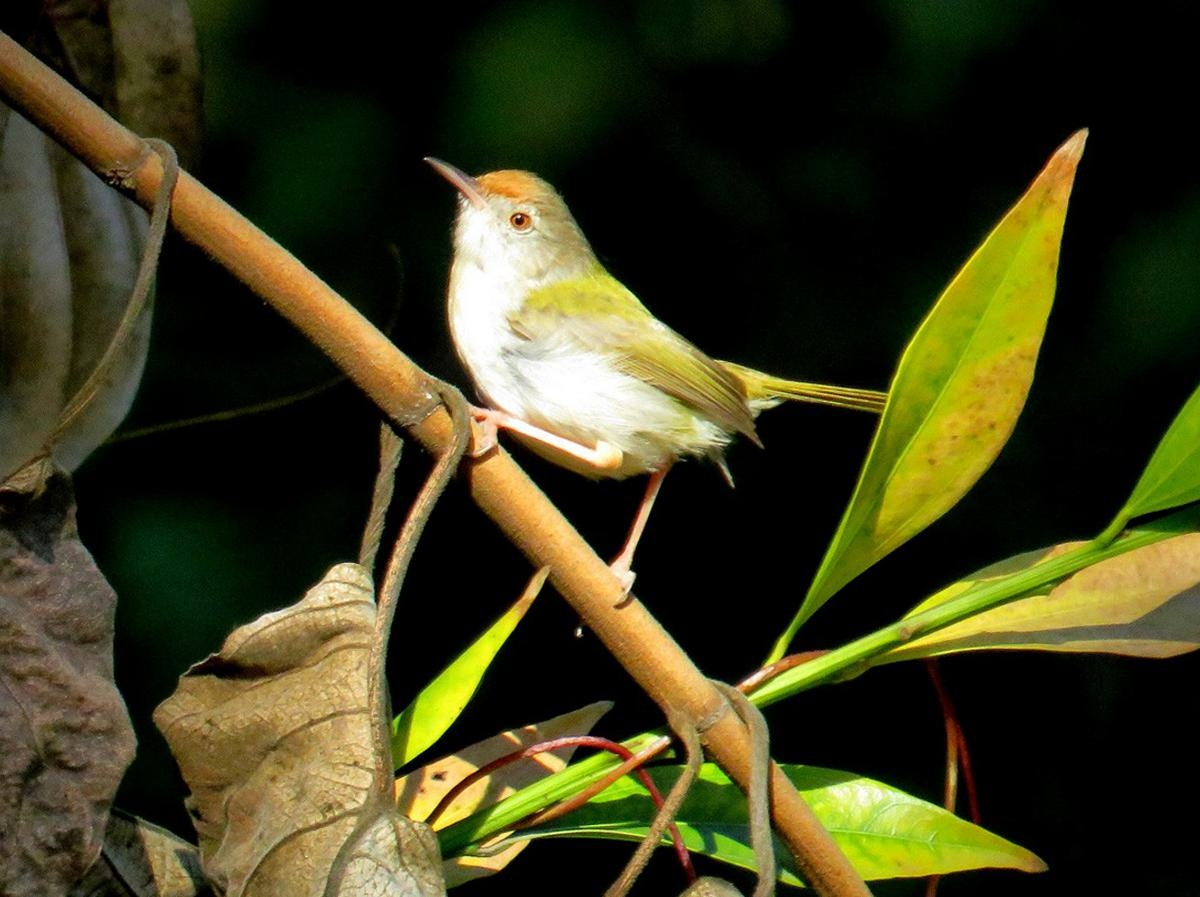tailorbird: (410, 145, 960, 556)
